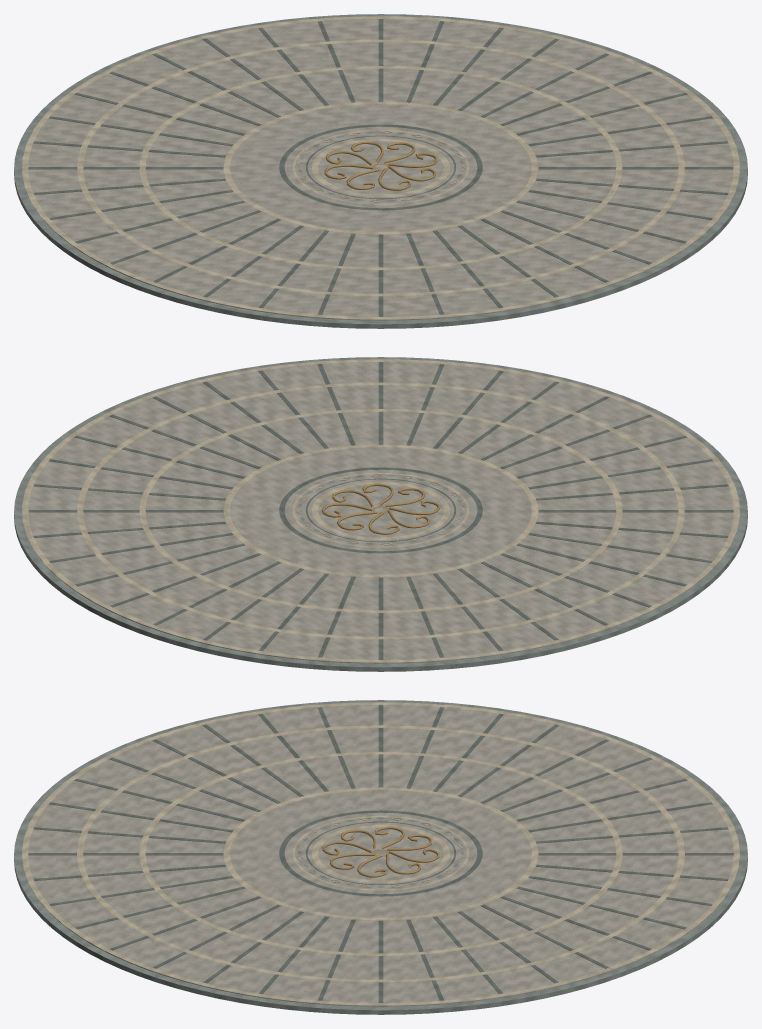
3 renders of one model, top to bottom at view 1: azimuth 30°, elevation 25°; view 2: azimuth 150°, elevation 25°; view 3: azimuth 270°, elevation 25°, orthographic.
Visible parts, largest first — view 1: C19_stone, C19_relief, C19_joint, C19_cool, C19_motif; view 2: C19_stone, C19_relief, C19_joint, C19_cool, C19_motif; view 3: C19_stone, C19_relief, C19_joint, C19_cool, C19_motif.
Boxes of the visible parts, bbox=[...] form: C19_stone: bbox=[28, 19, 733, 320]; C19_relief: bbox=[22, 16, 739, 319]; C19_joint: bbox=[28, 19, 733, 316]; C19_cool: bbox=[14, 14, 747, 328]; C19_motif: bbox=[324, 141, 437, 190]; C19_stone: bbox=[28, 362, 733, 663]; C19_relief: bbox=[22, 359, 739, 662]; C19_joint: bbox=[28, 362, 733, 659]; C19_cool: bbox=[14, 357, 747, 671]; C19_motif: bbox=[321, 483, 440, 534]; C19_stone: bbox=[28, 705, 733, 1006]; C19_relief: bbox=[22, 702, 739, 1005]; C19_joint: bbox=[28, 704, 733, 1002]; C19_cool: bbox=[14, 700, 747, 1014]; C19_motif: bbox=[322, 826, 439, 877].
Size of the model in its own units: 12.4 by 0.1655 by 12.4.
Materials: 5 (4 with a texture image).
